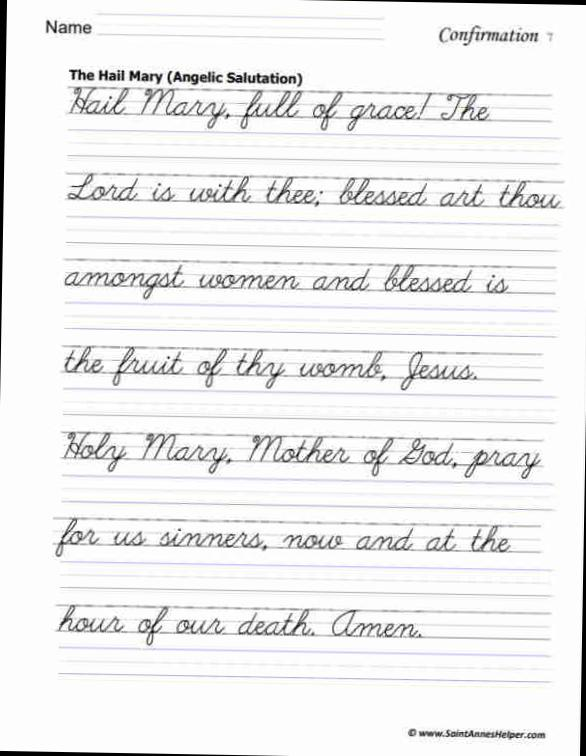text: (58, 428, 546, 486), (50, 514, 515, 569), (58, 255, 514, 310), (68, 84, 492, 138), (61, 344, 482, 398), (64, 171, 562, 212), (52, 602, 426, 654), (66, 64, 305, 89), (436, 20, 554, 48), (417, 726, 548, 742), (44, 18, 94, 38)
